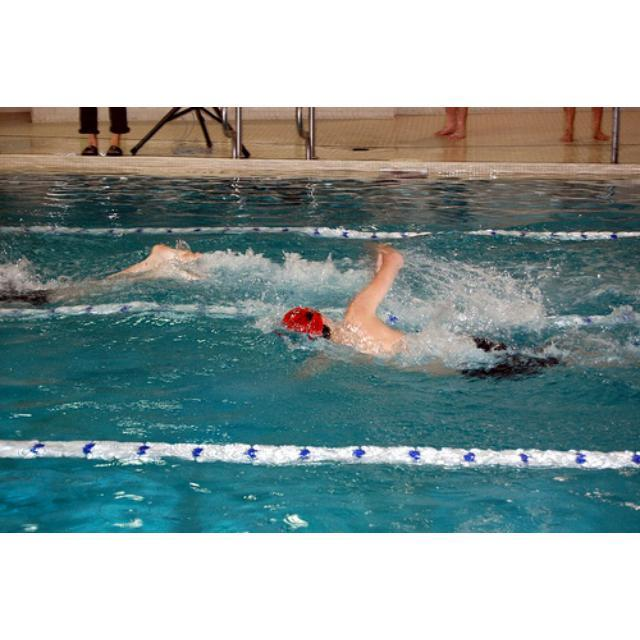human: (279, 242, 496, 373)
